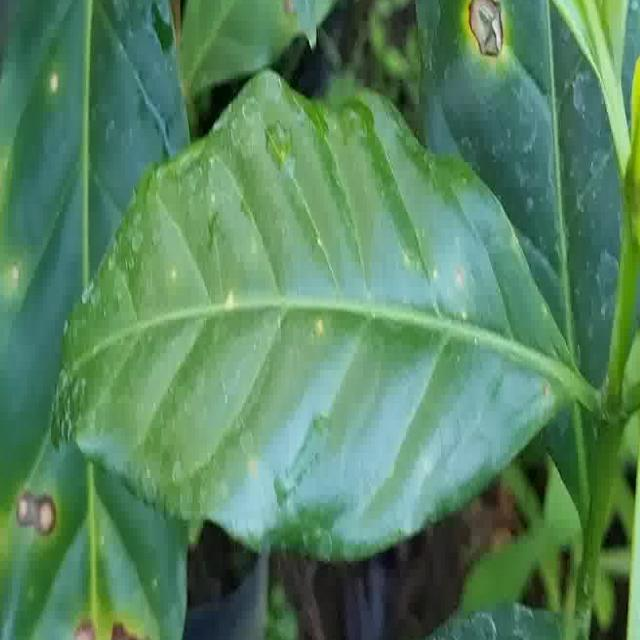leaves: (0, 12, 638, 640)
